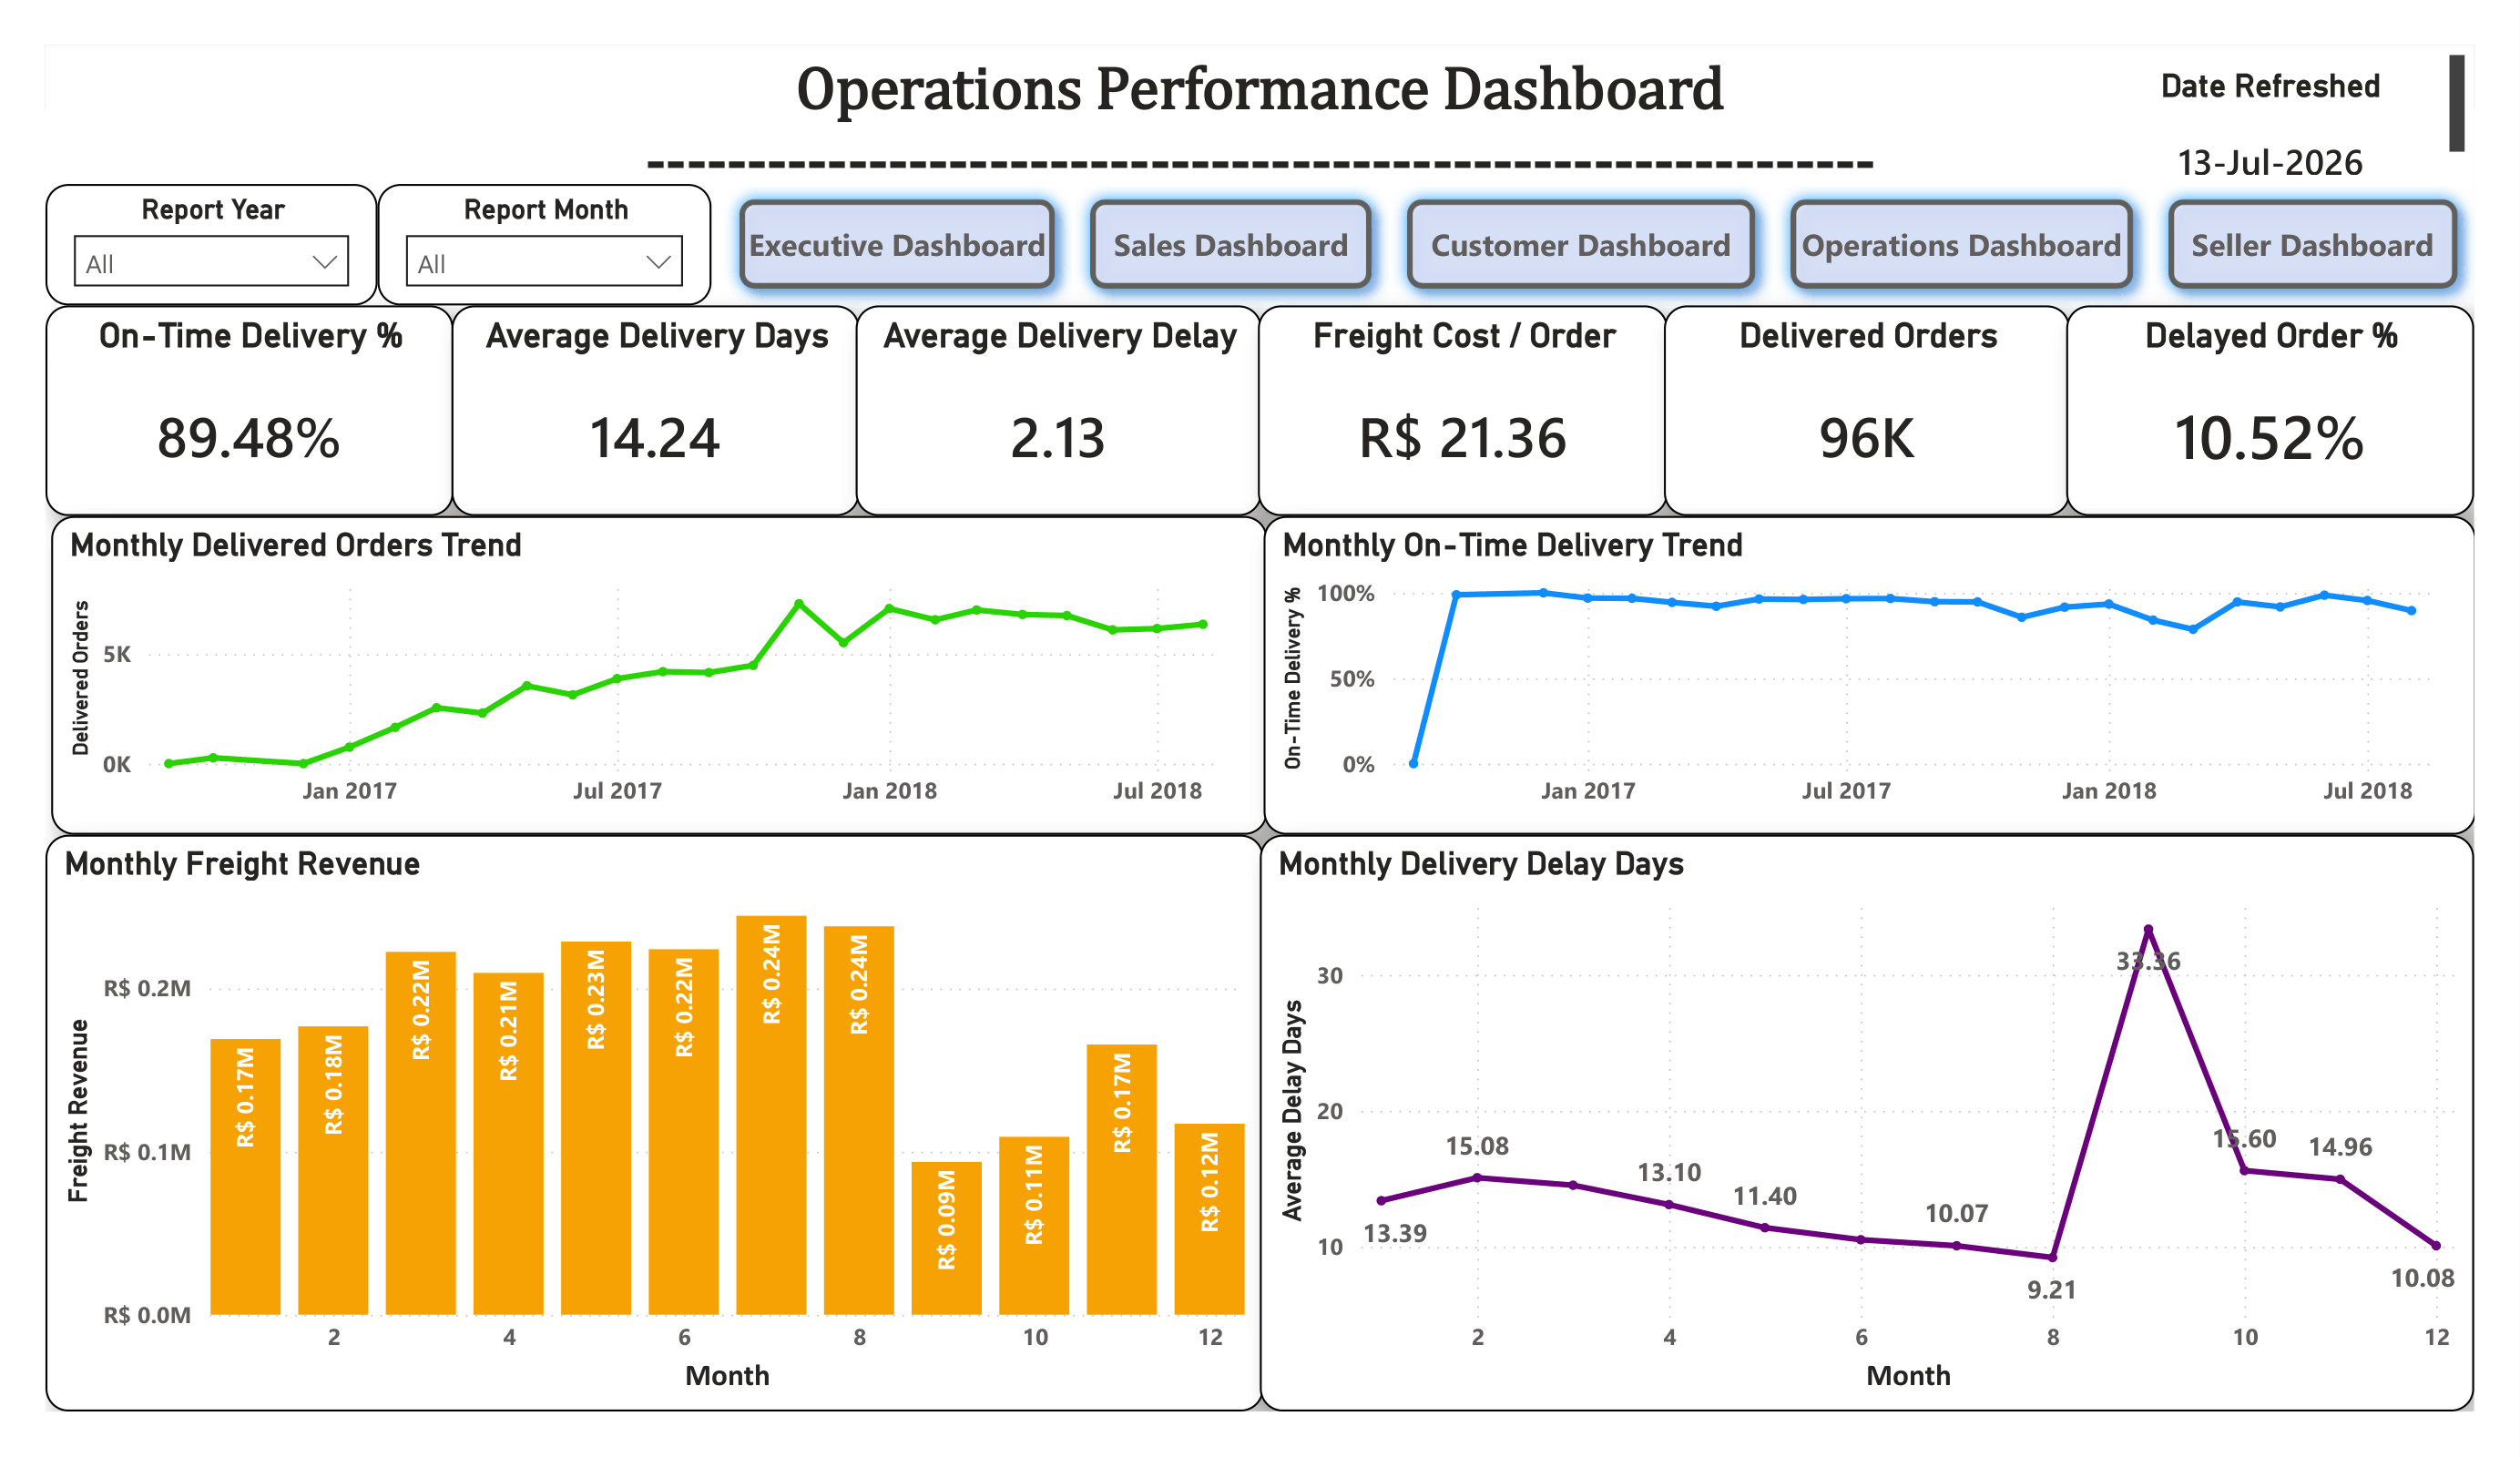

The page's visual inventory and layout, read from the dashboard file:
{"tool":"powerbi","page":{"name":"Operations Dashboard","canvas":[1280,720],"ordinal":6},"visuals":[{"type":"textbox","box":[9,0,1271.2,71.7],"z":0},{"type":"cardVisual","title":"On-Time Delivery %","fields":{"Data":["Measures Logistic.Operations On-Time Delivery %"]},"box":[0,136.8,215.2,111.6],"z":1000},{"type":"cardVisual","title":"Average Delivery Days","fields":{"Data":["Measures Logistic.Operations Average Delivery Days"]},"box":[213.6,136.8,215.2,111.6],"z":2000},{"type":"cardVisual","title":"Average Delivery Delay","fields":{"Data":["Measures Logistic.Operations Average Delay Days"]},"box":[427.2,136.8,213.9,111.6],"z":3000},{"type":"cardVisual","title":"Freight Cost / Order","fields":{"Data":["Measures Logistic.Operations Freight per Order"]},"box":[639.5,136.8,215.2,111.6],"z":4000},{"type":"cardVisual","title":"Delivered Orders","fields":{"Data":["Measures Logistic.Operations Delivered Orders"]},"box":[853.1,136.8,213.9,111.6],"z":5000},{"type":"cardVisual","title":"Delayed Order %","fields":{"Data":["Measures Logistic.Operations Delayed Orders %"]},"box":[1064.8,136.8,215.2,111.6],"z":6000},{"type":"cardVisual","title":"Date Refreshed","fields":{"Data":["Measures (2).Last Refresh Date"]},"box":[1065.4,10.6,215.2,82.4],"z":7000},{"type":"lineChart","title":"Monthly Delivered Orders Trend","fields":{"Y":["Measures Logistic.Operations Delivered Orders"],"Category":["Logistic.report_date.Variation.Date Hierarchy.Year","Logistic.report_date.Variation.Date Hierarchy.Month"]},"box":[2.7,248.4,641.6,167.4],"z":8000},{"type":"lineChart","title":"Monthly On-Time Delivery Trend","fields":{"Category":["Logistic.report_date.Variation.Date Hierarchy.Year","Logistic.report_date.Variation.Date Hierarchy.Month"],"Y":["Measures Logistic.Operations On-Time Delivery %"]},"box":[641.6,248.4,639,167.4],"z":9000},{"type":"clusteredColumnChart","title":"Monthly Freight Revenue","fields":{"Category":["Logistic.report_month"],"Y":["Sum(Logistic.total_freight_revenue)"]},"box":[0,415.8,641.6,304.2],"z":10000},{"type":"slicer","title":"Report Month","fields":{"Values":["Logistic.report_month"]},"box":[174.8,73.2,176.3,64.2],"z":11000},{"type":"slicer","title":"Report Year","fields":{"Values":["Logistic.report_year"]},"box":[0,73.2,174.8,64.2],"z":12000},{"type":"lineChart","title":"Monthly Delivery Delay Days","fields":{"Category":["Logistic.report_month"],"Y":["Measures Logistic.Operations Average Delivery Days"]},"box":[640,415.7,640,304.2],"z":13000},{"type":"actionButton","box":[357,71.7,183.7,65.7],"z":14000},{"type":"actionButton","box":[541.8,71.7,165.8,65.7],"z":15000},{"type":"actionButton","box":[708.7,71.7,201.7,65.7],"z":16000},{"type":"actionButton","box":[911.5,71.7,197.2,65.7],"z":17000},{"type":"actionButton","box":[1109.7,71.7,170.3,65.7],"z":18000}]}

Visuals, with their boxes on the page's 1280x720 design canvas (x1, y1, x2, y2). These are canvas units, not pixel positions in the 2520x1457 screenshot, which may show the page scaled, cropped or inside an application window:
textbox: <region>9, 0, 1280, 72</region>
"On-Time Delivery %" cardVisual: <region>0, 137, 215, 248</region>
"Average Delivery Days" cardVisual: <region>214, 137, 429, 248</region>
"Average Delivery Delay" cardVisual: <region>427, 137, 641, 248</region>
"Freight Cost / Order" cardVisual: <region>640, 137, 855, 248</region>
"Delivered Orders" cardVisual: <region>853, 137, 1067, 248</region>
"Delayed Order %" cardVisual: <region>1065, 137, 1280, 248</region>
"Date Refreshed" cardVisual: <region>1065, 11, 1281, 93</region>
"Monthly Delivered Orders Trend" lineChart: <region>3, 248, 644, 416</region>
"Monthly On-Time Delivery Trend" lineChart: <region>642, 248, 1281, 416</region>
"Monthly Freight Revenue" clusteredColumnChart: <region>0, 416, 642, 720</region>
"Report Month" slicer: <region>175, 73, 351, 137</region>
"Report Year" slicer: <region>0, 73, 175, 137</region>
"Monthly Delivery Delay Days" lineChart: <region>640, 416, 1280, 720</region>
actionButton: <region>357, 72, 541, 137</region>
actionButton: <region>542, 72, 708, 137</region>
actionButton: <region>709, 72, 910, 137</region>
actionButton: <region>912, 72, 1109, 137</region>
actionButton: <region>1110, 72, 1280, 137</region>
